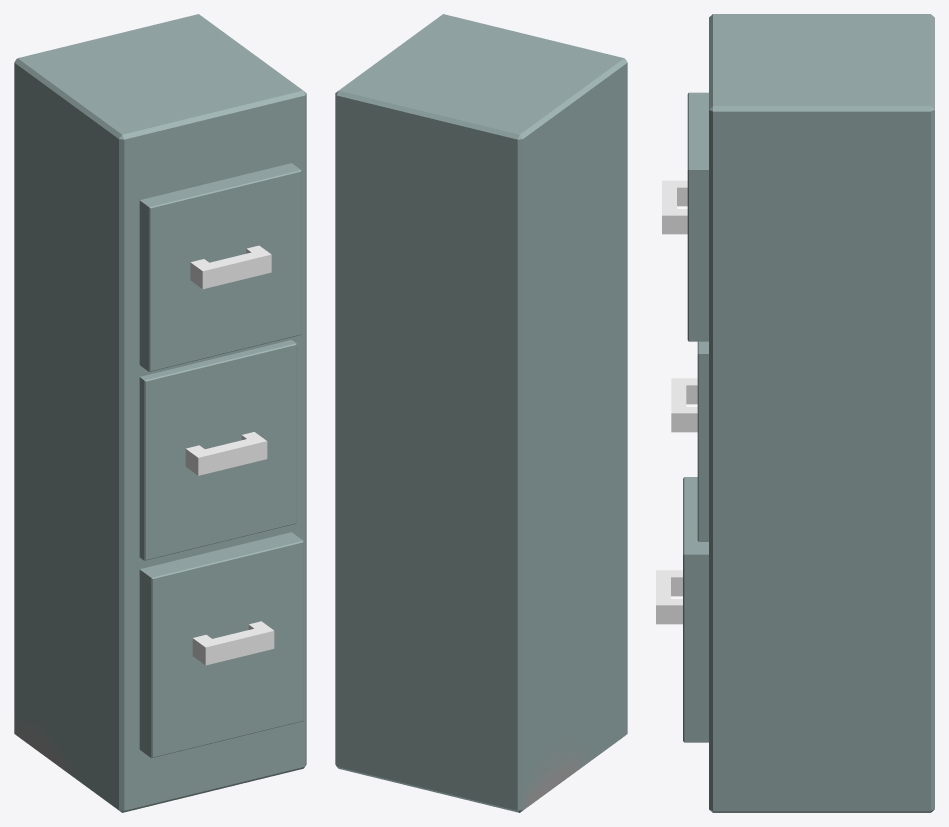
Rendered from Filing Cabinety.fbx.
3 views of the same model, side by side, from view 1: azimuth 30°, elevation 25°; view 2: azimuth 150°, elevation 25°; view 3: azimuth 270°, elevation 25° (orthographic). The views are drawn at different scales.
Parts seen in each view (by area): view 1: pCube5; view 2: pCube5; view 3: pCube5.
Boxes of the visible parts, left/top/right/bottom form: pCube5: left=14, top=14, right=306, bottom=812; pCube5: left=335, top=14, right=627, bottom=812; pCube5: left=656, top=14, right=934, bottom=812.
Bounding box in the file's own units: 2.34 × 8.07 × 2.89.
Materials: 1 (1 with a texture image).
